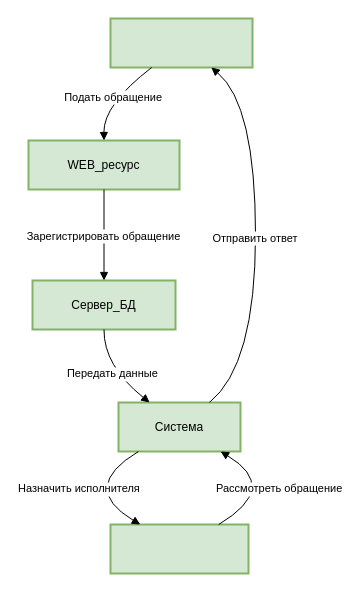
Image size: 360x591. Some labels were removed from this diagram. Each missing label, with the centre of its shape:
Гражданин: (x=181, y=42)
Сотрудник: (x=179, y=548)
